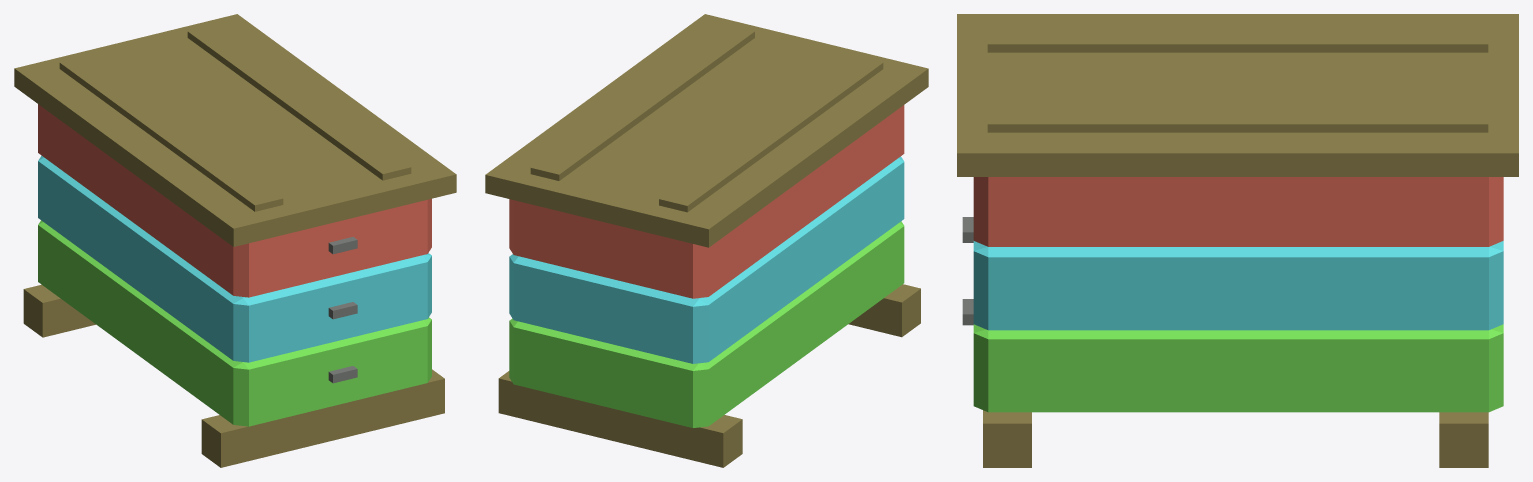
File: beehive03.fbx
3 renders of one model, left to right at view 1: azimuth 30°, elevation 25°; view 2: azimuth 150°, elevation 25°; view 3: azimuth 270°, elevation 25°, orthographic. The views are drawn at different scales.
Visible parts, largest first — view 1: Cube.006; view 2: Cube.006; view 3: Cube.006.
Part boxes in pixels (x1,y1,x2,y2): Cube.006: (14, 14, 456, 467); Cube.006: (485, 14, 928, 467); Cube.006: (957, 14, 1518, 467).
Size of the model in its own units: 0.7668 by 0.8199 by 1.29.
